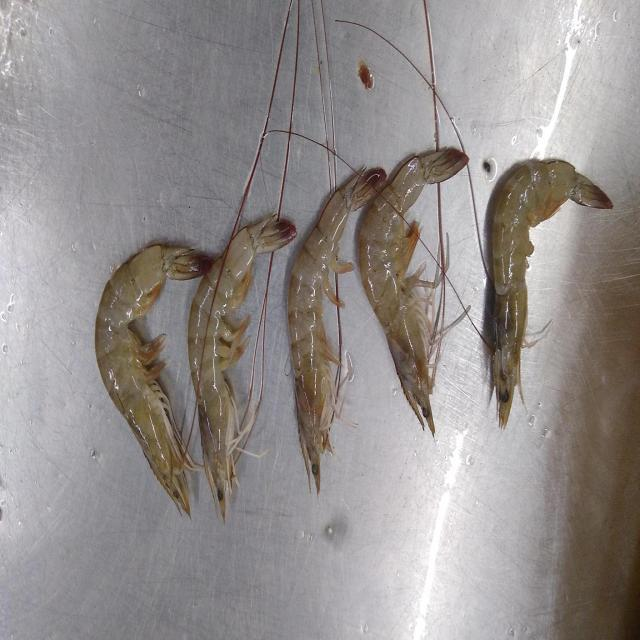shrimp: (188, 216, 296, 522), (492, 162, 612, 429), (288, 169, 386, 493), (359, 149, 469, 436), (95, 244, 211, 516)
